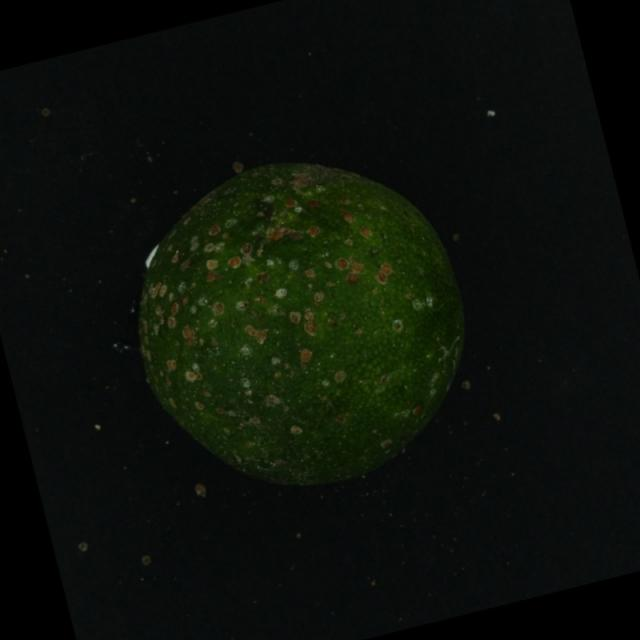grenning: (116, 158, 489, 500)
